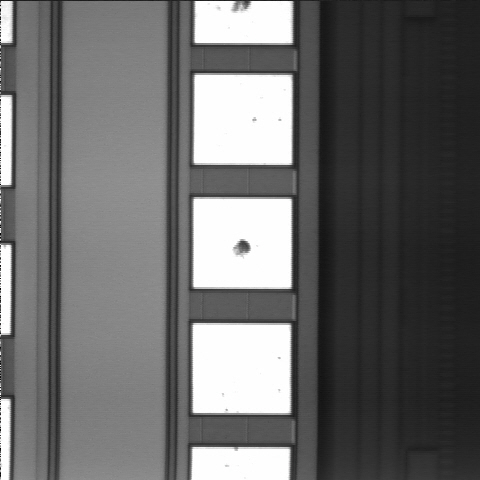pad: (194, 75, 292, 165), (193, 199, 291, 289), (193, 323, 291, 413)
